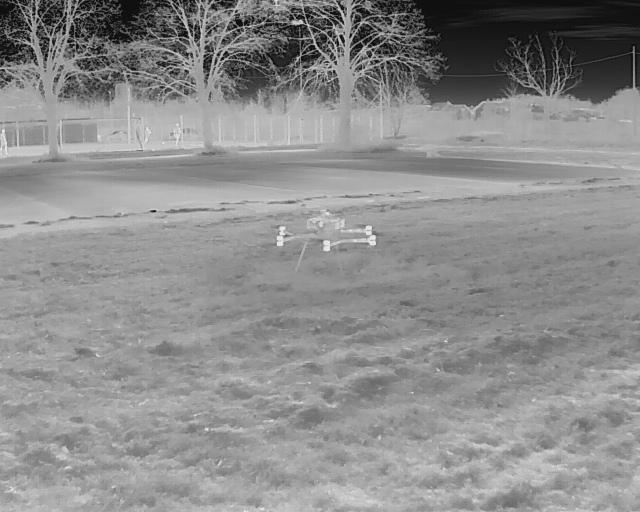drone: (254, 202, 383, 276)
